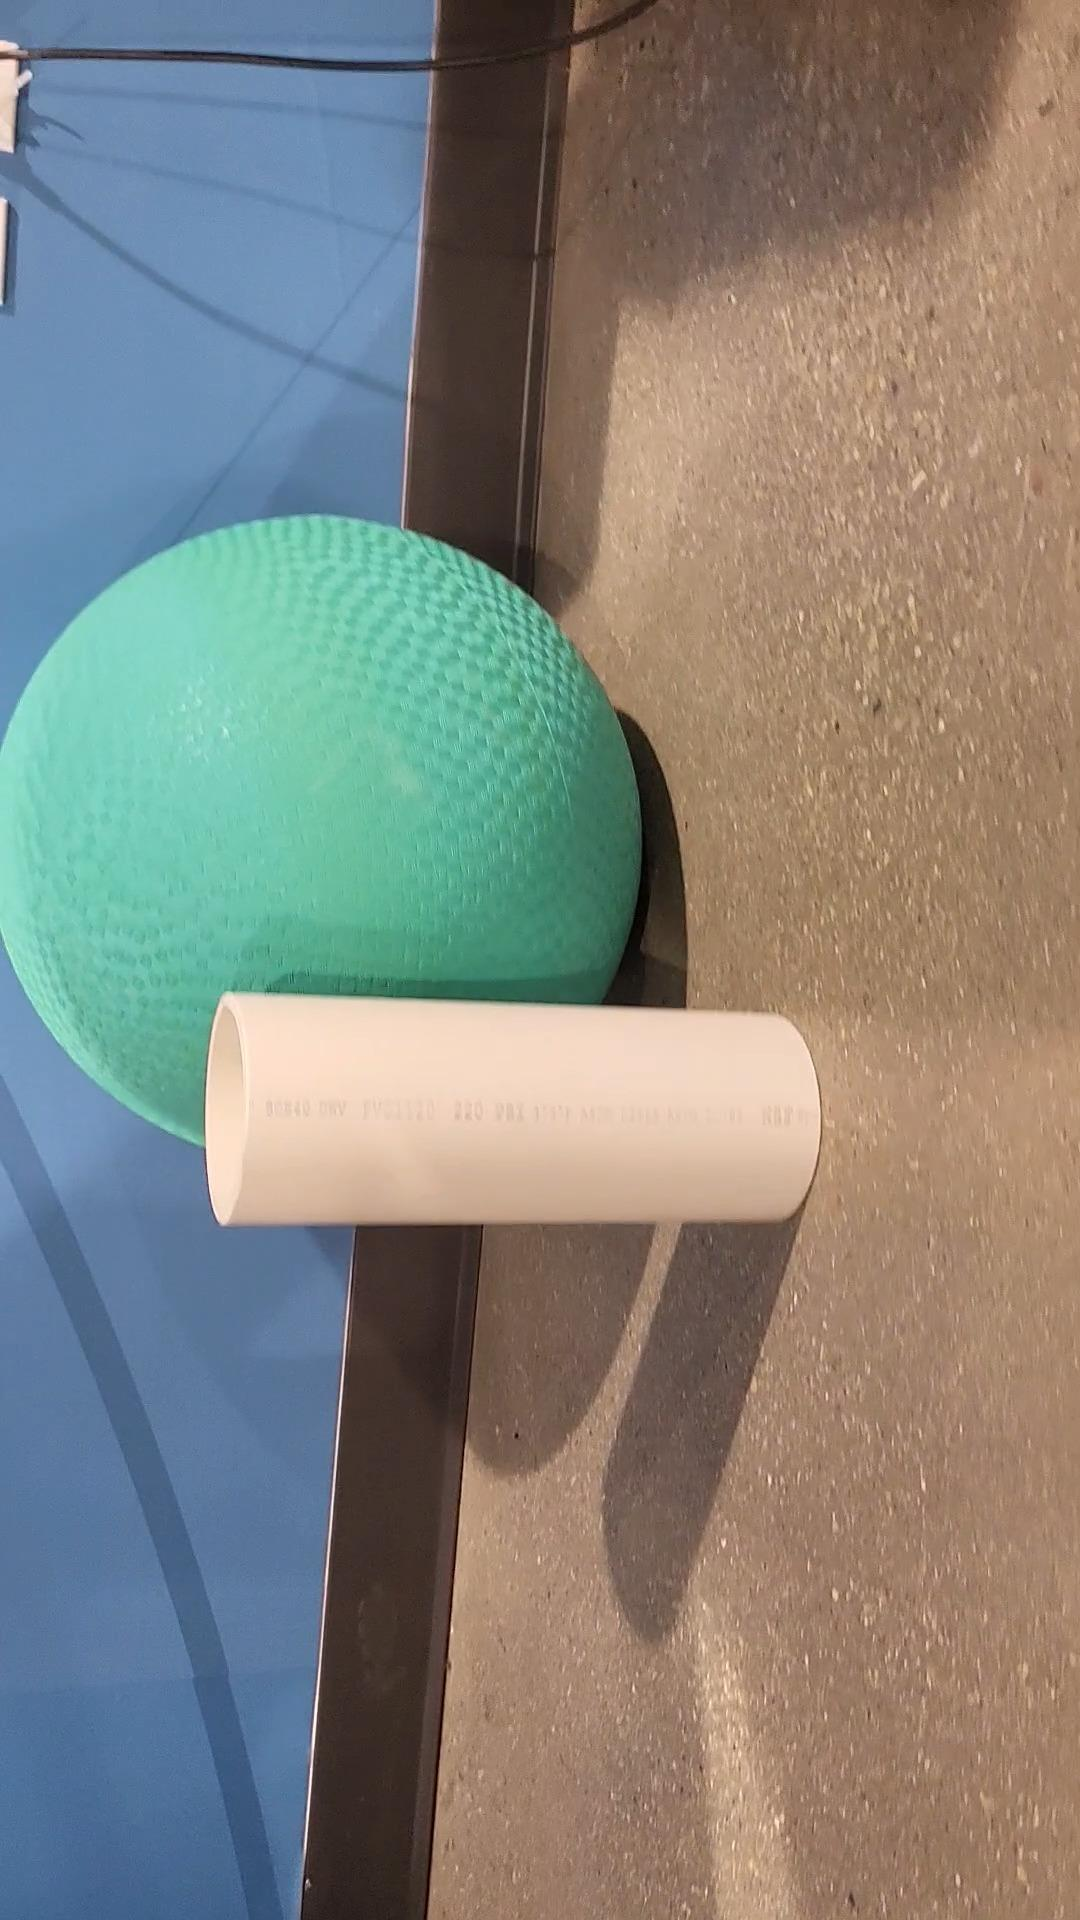algae: (0, 510, 642, 1145)
coral: (210, 1000, 825, 1228)
